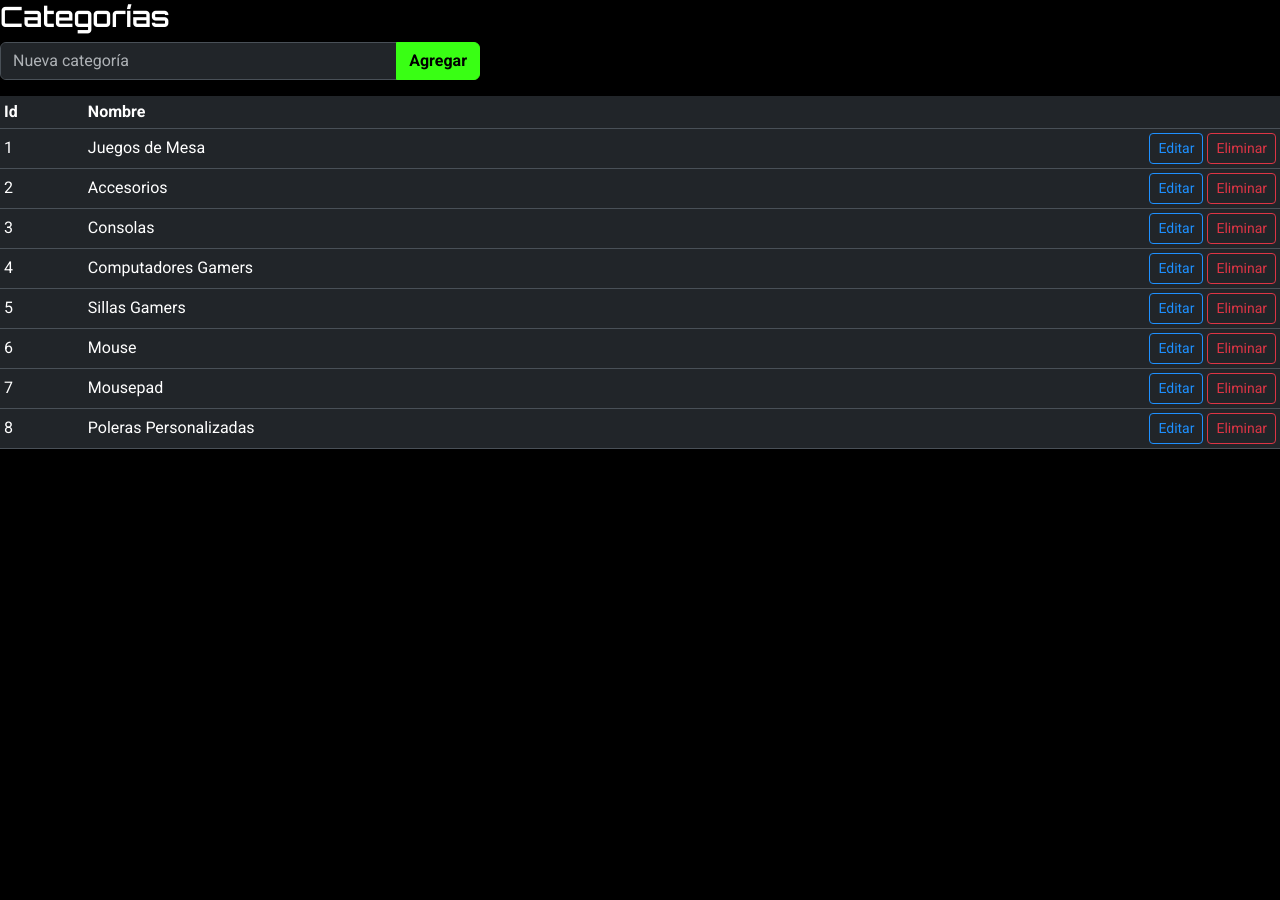
it: Categorías del panel › muestra el error si la categoría tiene productos
This screenshot has width=1280, height=900.
Expected: the text "Consolas" is shown, [84,208,760,248]
Click the button "Eliminar" in the row of "Juegos de Mesa".
click(1242, 148)  # box [1208,133,1276,164]
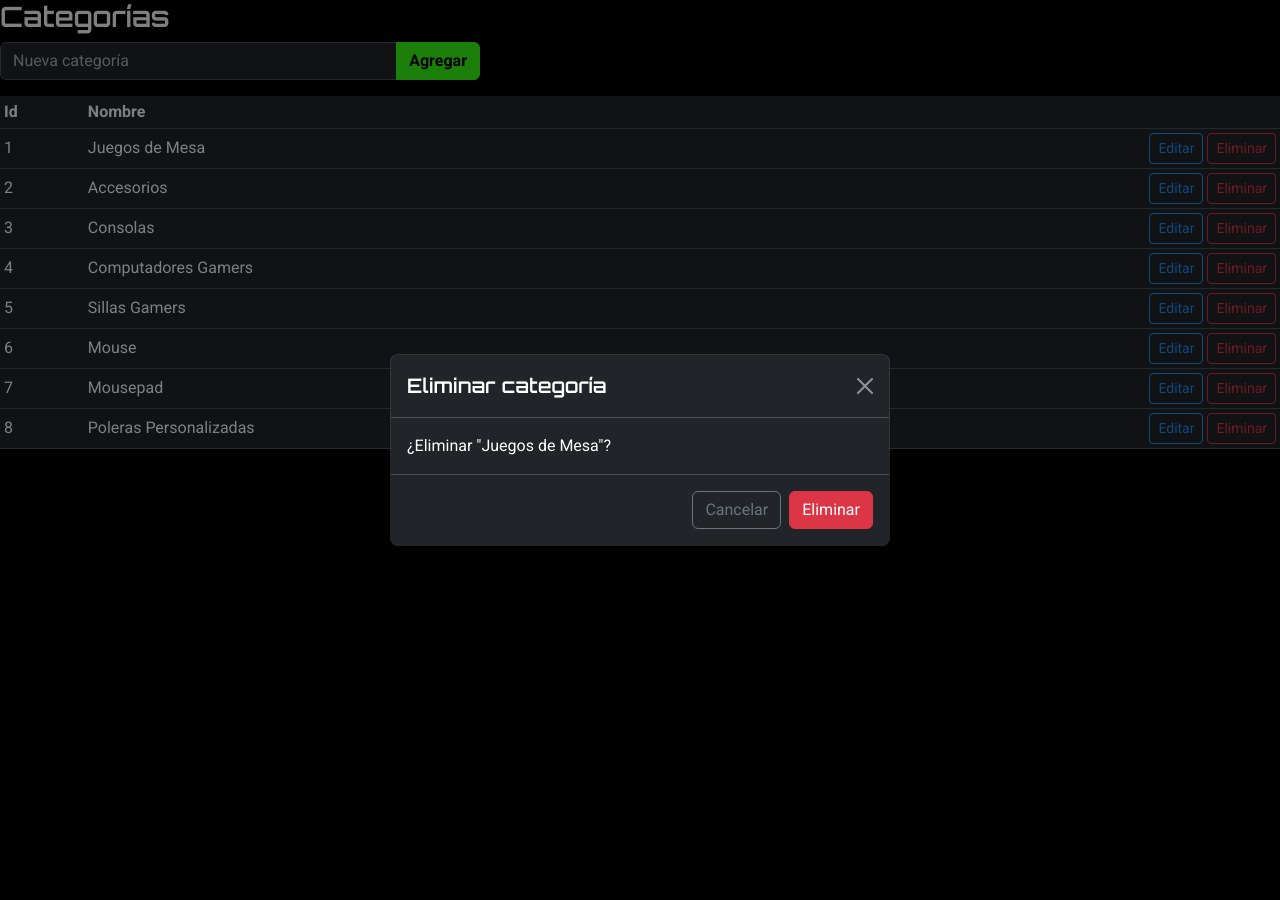
Click the button "Eliminar".
click(831, 510)  # box [789,491,873,529]
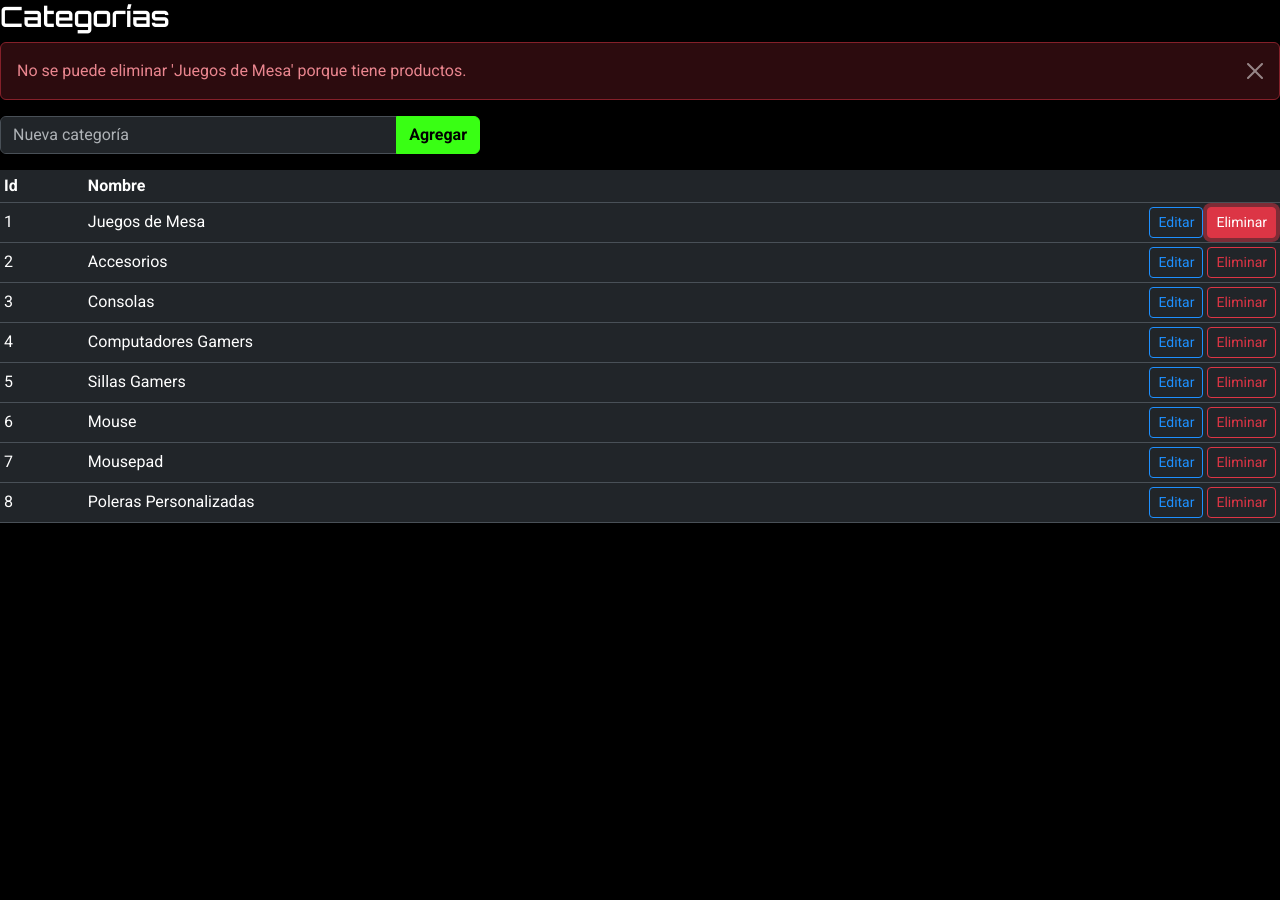
Expected: the text "No se puede eliminar 'Juegos de Mesa' porque tiene productos." is shown, [0,42,1279,100]
